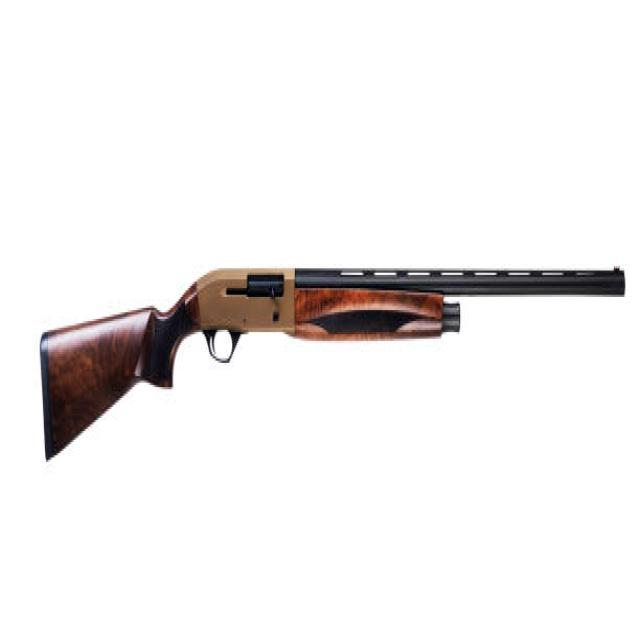rifle: (37, 249, 630, 468)
